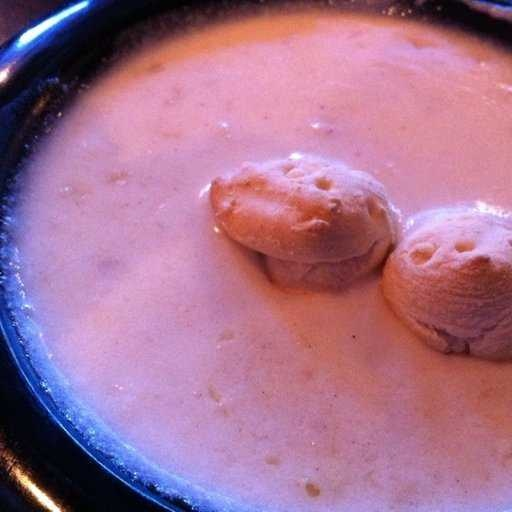soup: (19, 7, 511, 475)
